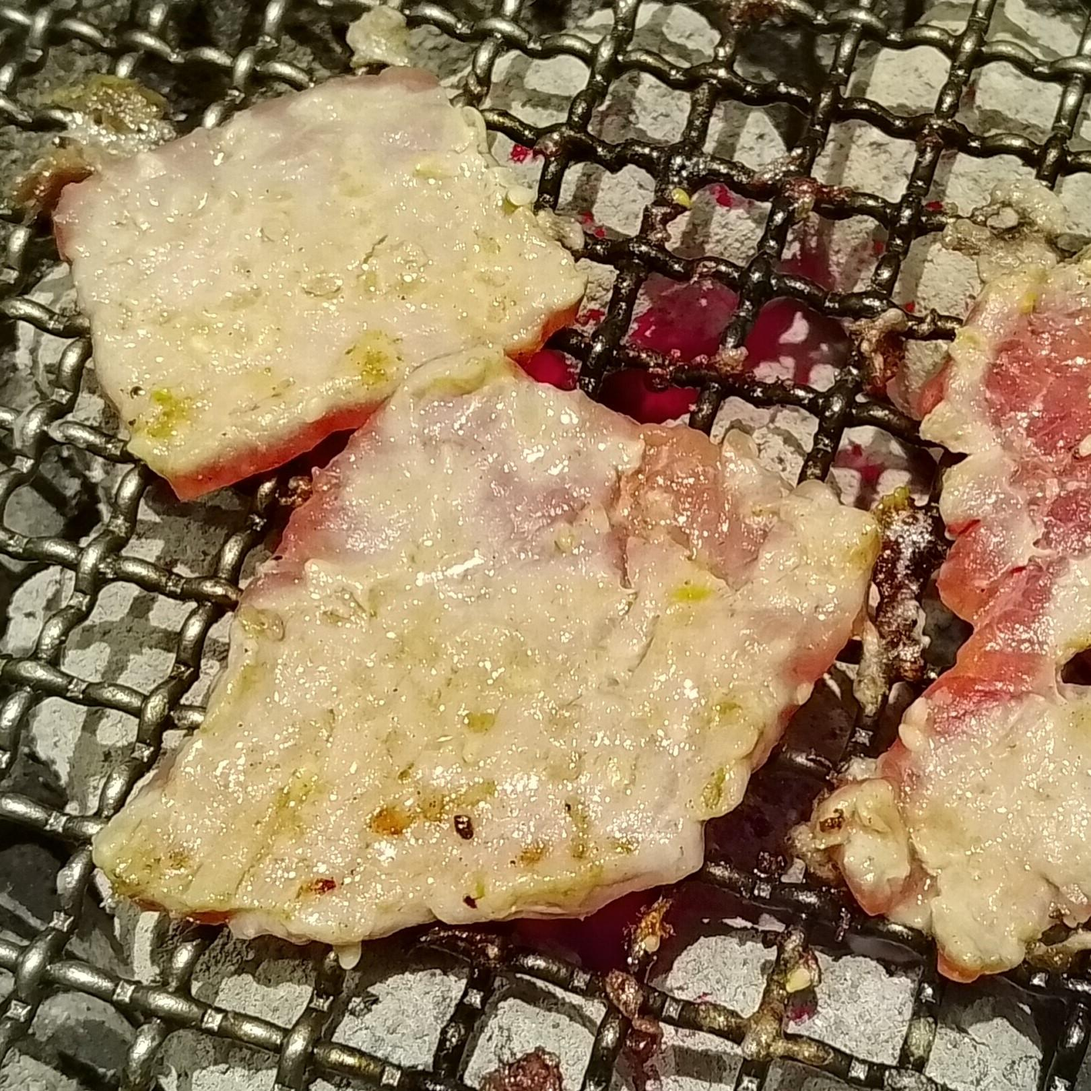Undercooked: (43, 65, 892, 958), (802, 245, 1090, 988)
